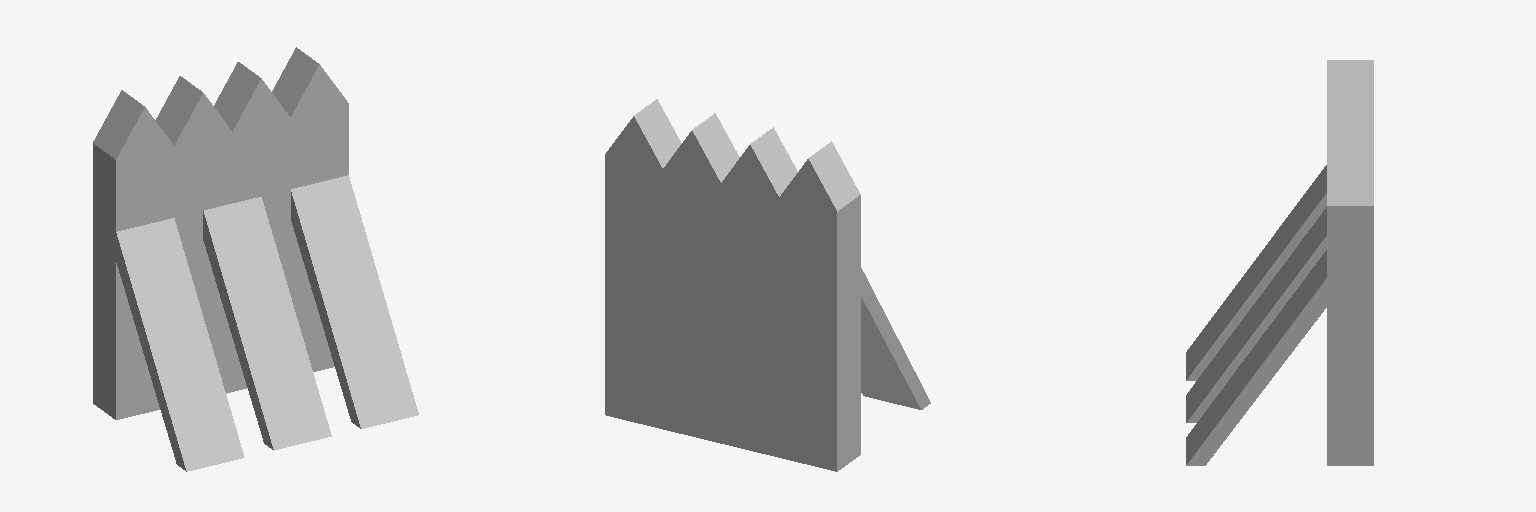
Rendered from Roadblock.obj.
3 views of the same model, side by side, from view 1: azimuth 30°, elevation 25°; view 2: azimuth 150°, elevation 25°; view 3: azimuth 270°, elevation 25° (orthographic).
Visible parts, largest first — view 1: Cube_Cube.001; view 2: Cube_Cube.001; view 3: Cube_Cube.001.
Part boxes in pixels (x1,y1,x2,y2): Cube_Cube.001: (93, 47, 418, 471); Cube_Cube.001: (605, 99, 930, 471); Cube_Cube.001: (1186, 60, 1373, 465).
Size of the model in its own units: 1.58 by 2 by 1.11.